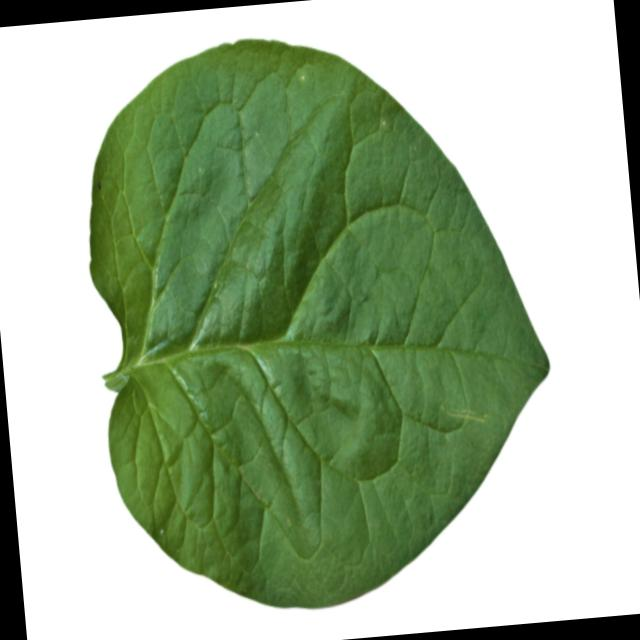Medicinal-Basale: (70, 13, 570, 624)
